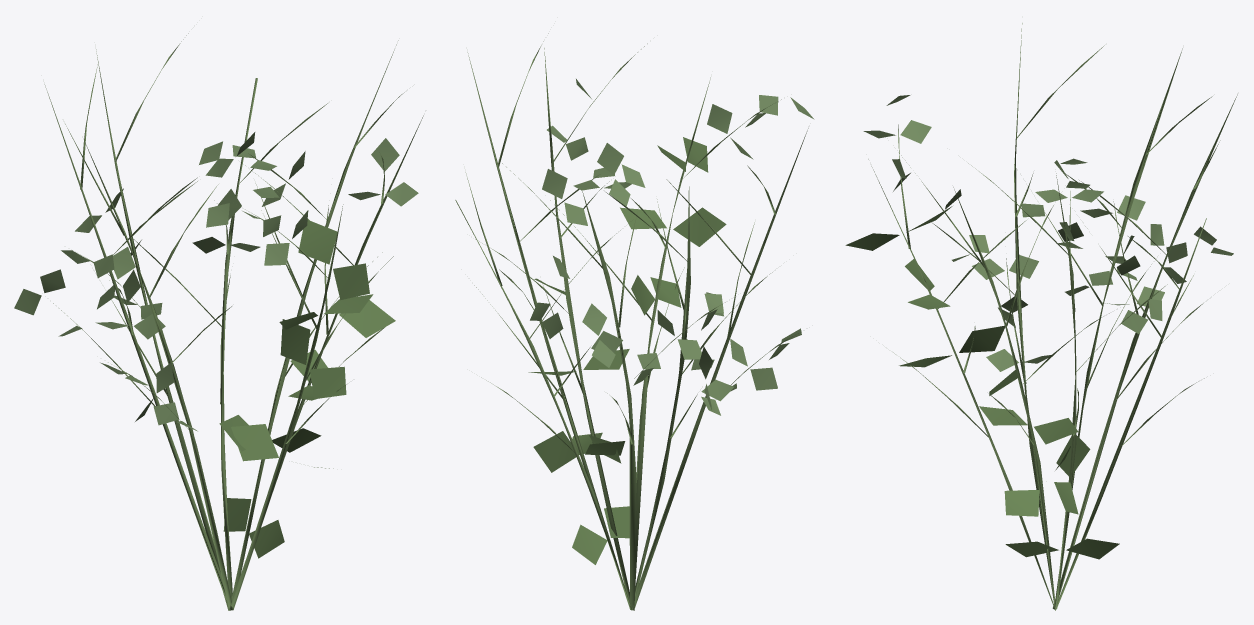
File: Nepita_2_Niveau2.fbx
The picture shows the model from 3 angles, left to right: view 1: azimuth 30°, elevation 25°; view 2: azimuth 150°, elevation 25°; view 3: azimuth 270°, elevation 25°; orthographic projection. The views are drawn at different scales.
Visible parts, largest first — view 1: Nepita_2_Niveau2; view 2: Nepita_2_Niveau2; view 3: Nepita_2_Niveau2.
Part boxes in pixels (box(x1,y1,x2,y2)): Nepita_2_Niveau2: box(14, 33, 423, 610); Nepita_2_Niveau2: box(455, 33, 814, 610); Nepita_2_Niveau2: box(845, 23, 1237, 610).
Bounding box in the file's own units: 22.24 × 33.98 × 23.16.
